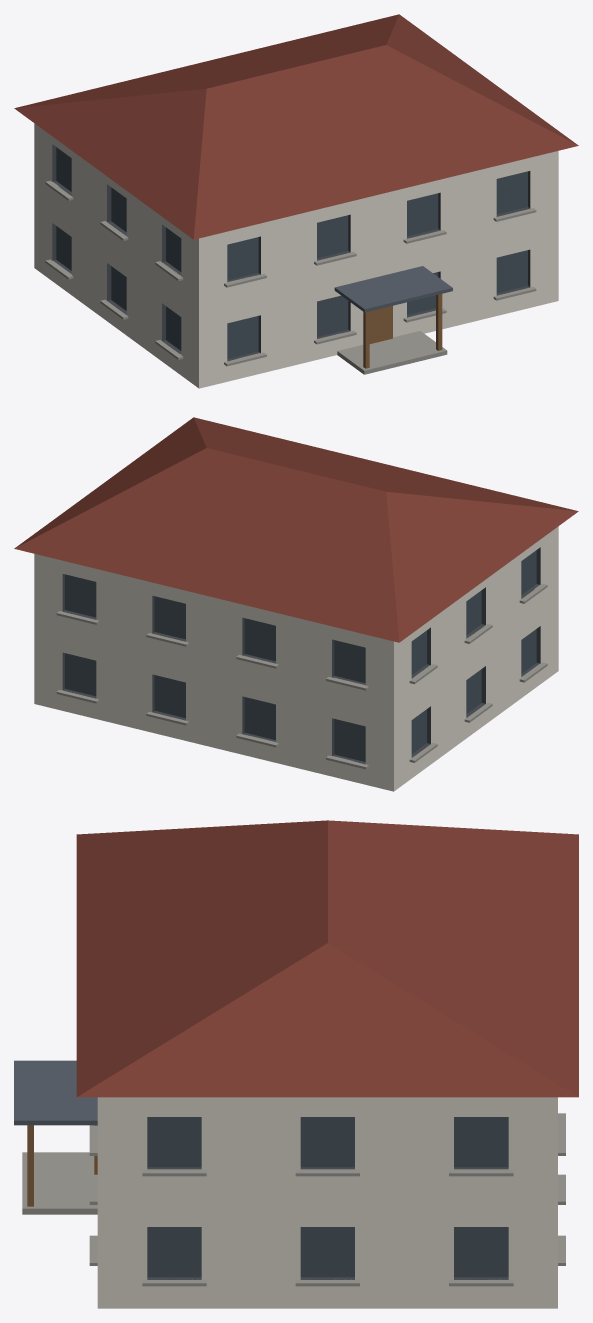
File: house-1.glb
3 renders of one model, top to bottom at view 1: azimuth 30°, elevation 25°; view 2: azimuth 150°, elevation 25°; view 3: azimuth 270°, elevation 25°, orthographic. The views are drawn at different scales.
Visible parts, largest first — view 1: house-1; view 2: house-1; view 3: house-1.
Boxes of the visible parts, left/top/right/bottom form: house-1: left=14, top=14, right=578, bottom=388; house-1: left=14, top=417, right=578, bottom=791; house-1: left=14, top=820, right=578, bottom=1308.
Size of the model in its own units: 14.85 by 8.02 by 13.49.
